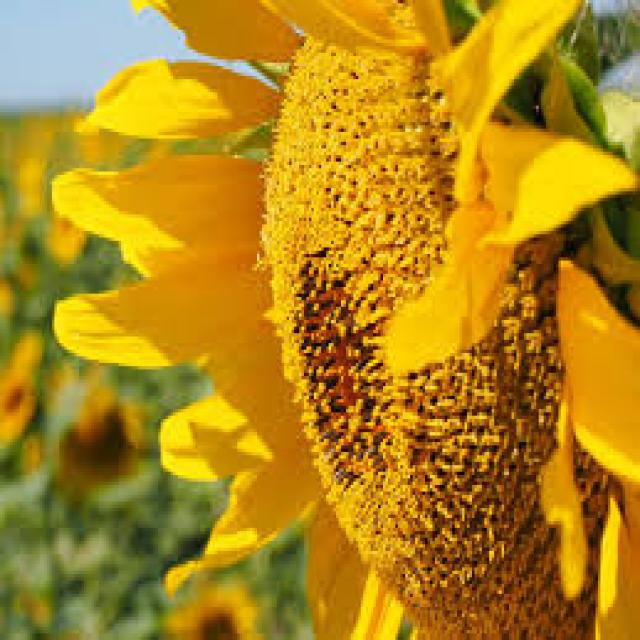sunflower: (47, 0, 640, 640), (53, 374, 150, 495), (2, 308, 42, 484), (161, 580, 271, 640)
